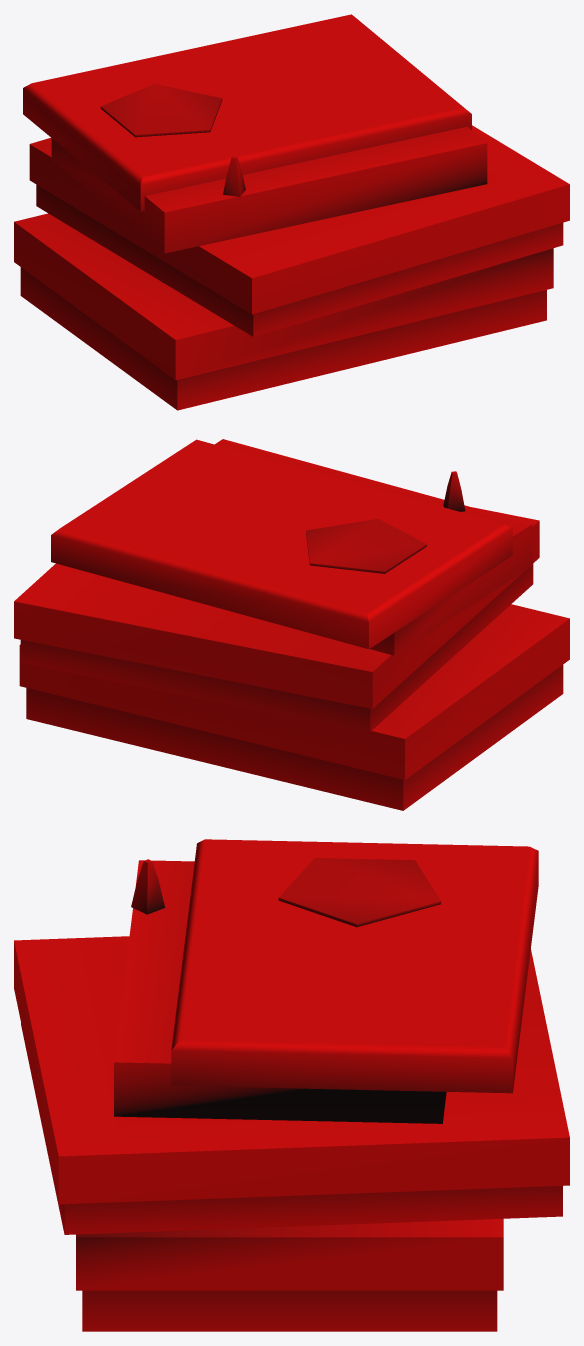
File: CI_Living_BoardGame_Stack.glb
3 renders of one model, top to bottom at view 1: azimuth 30°, elevation 25°; view 2: azimuth 150°, elevation 25°; view 3: azimuth 270°, elevation 25°, orthographic. The views are drawn at different scales.
Parts seen in each view (by area): view 1: CI_Living_BoardGame_Stack; view 2: CI_Living_BoardGame_Stack; view 3: CI_Living_BoardGame_Stack.
Boxes of the visible parts, box(x1,y1,x2,y2) form: CI_Living_BoardGame_Stack: box(14, 14, 569, 410); CI_Living_BoardGame_Stack: box(14, 439, 569, 810); CI_Living_BoardGame_Stack: box(14, 839, 569, 1331).
Bounding box in the file's own units: 0.277 × 0.147 × 0.26.
